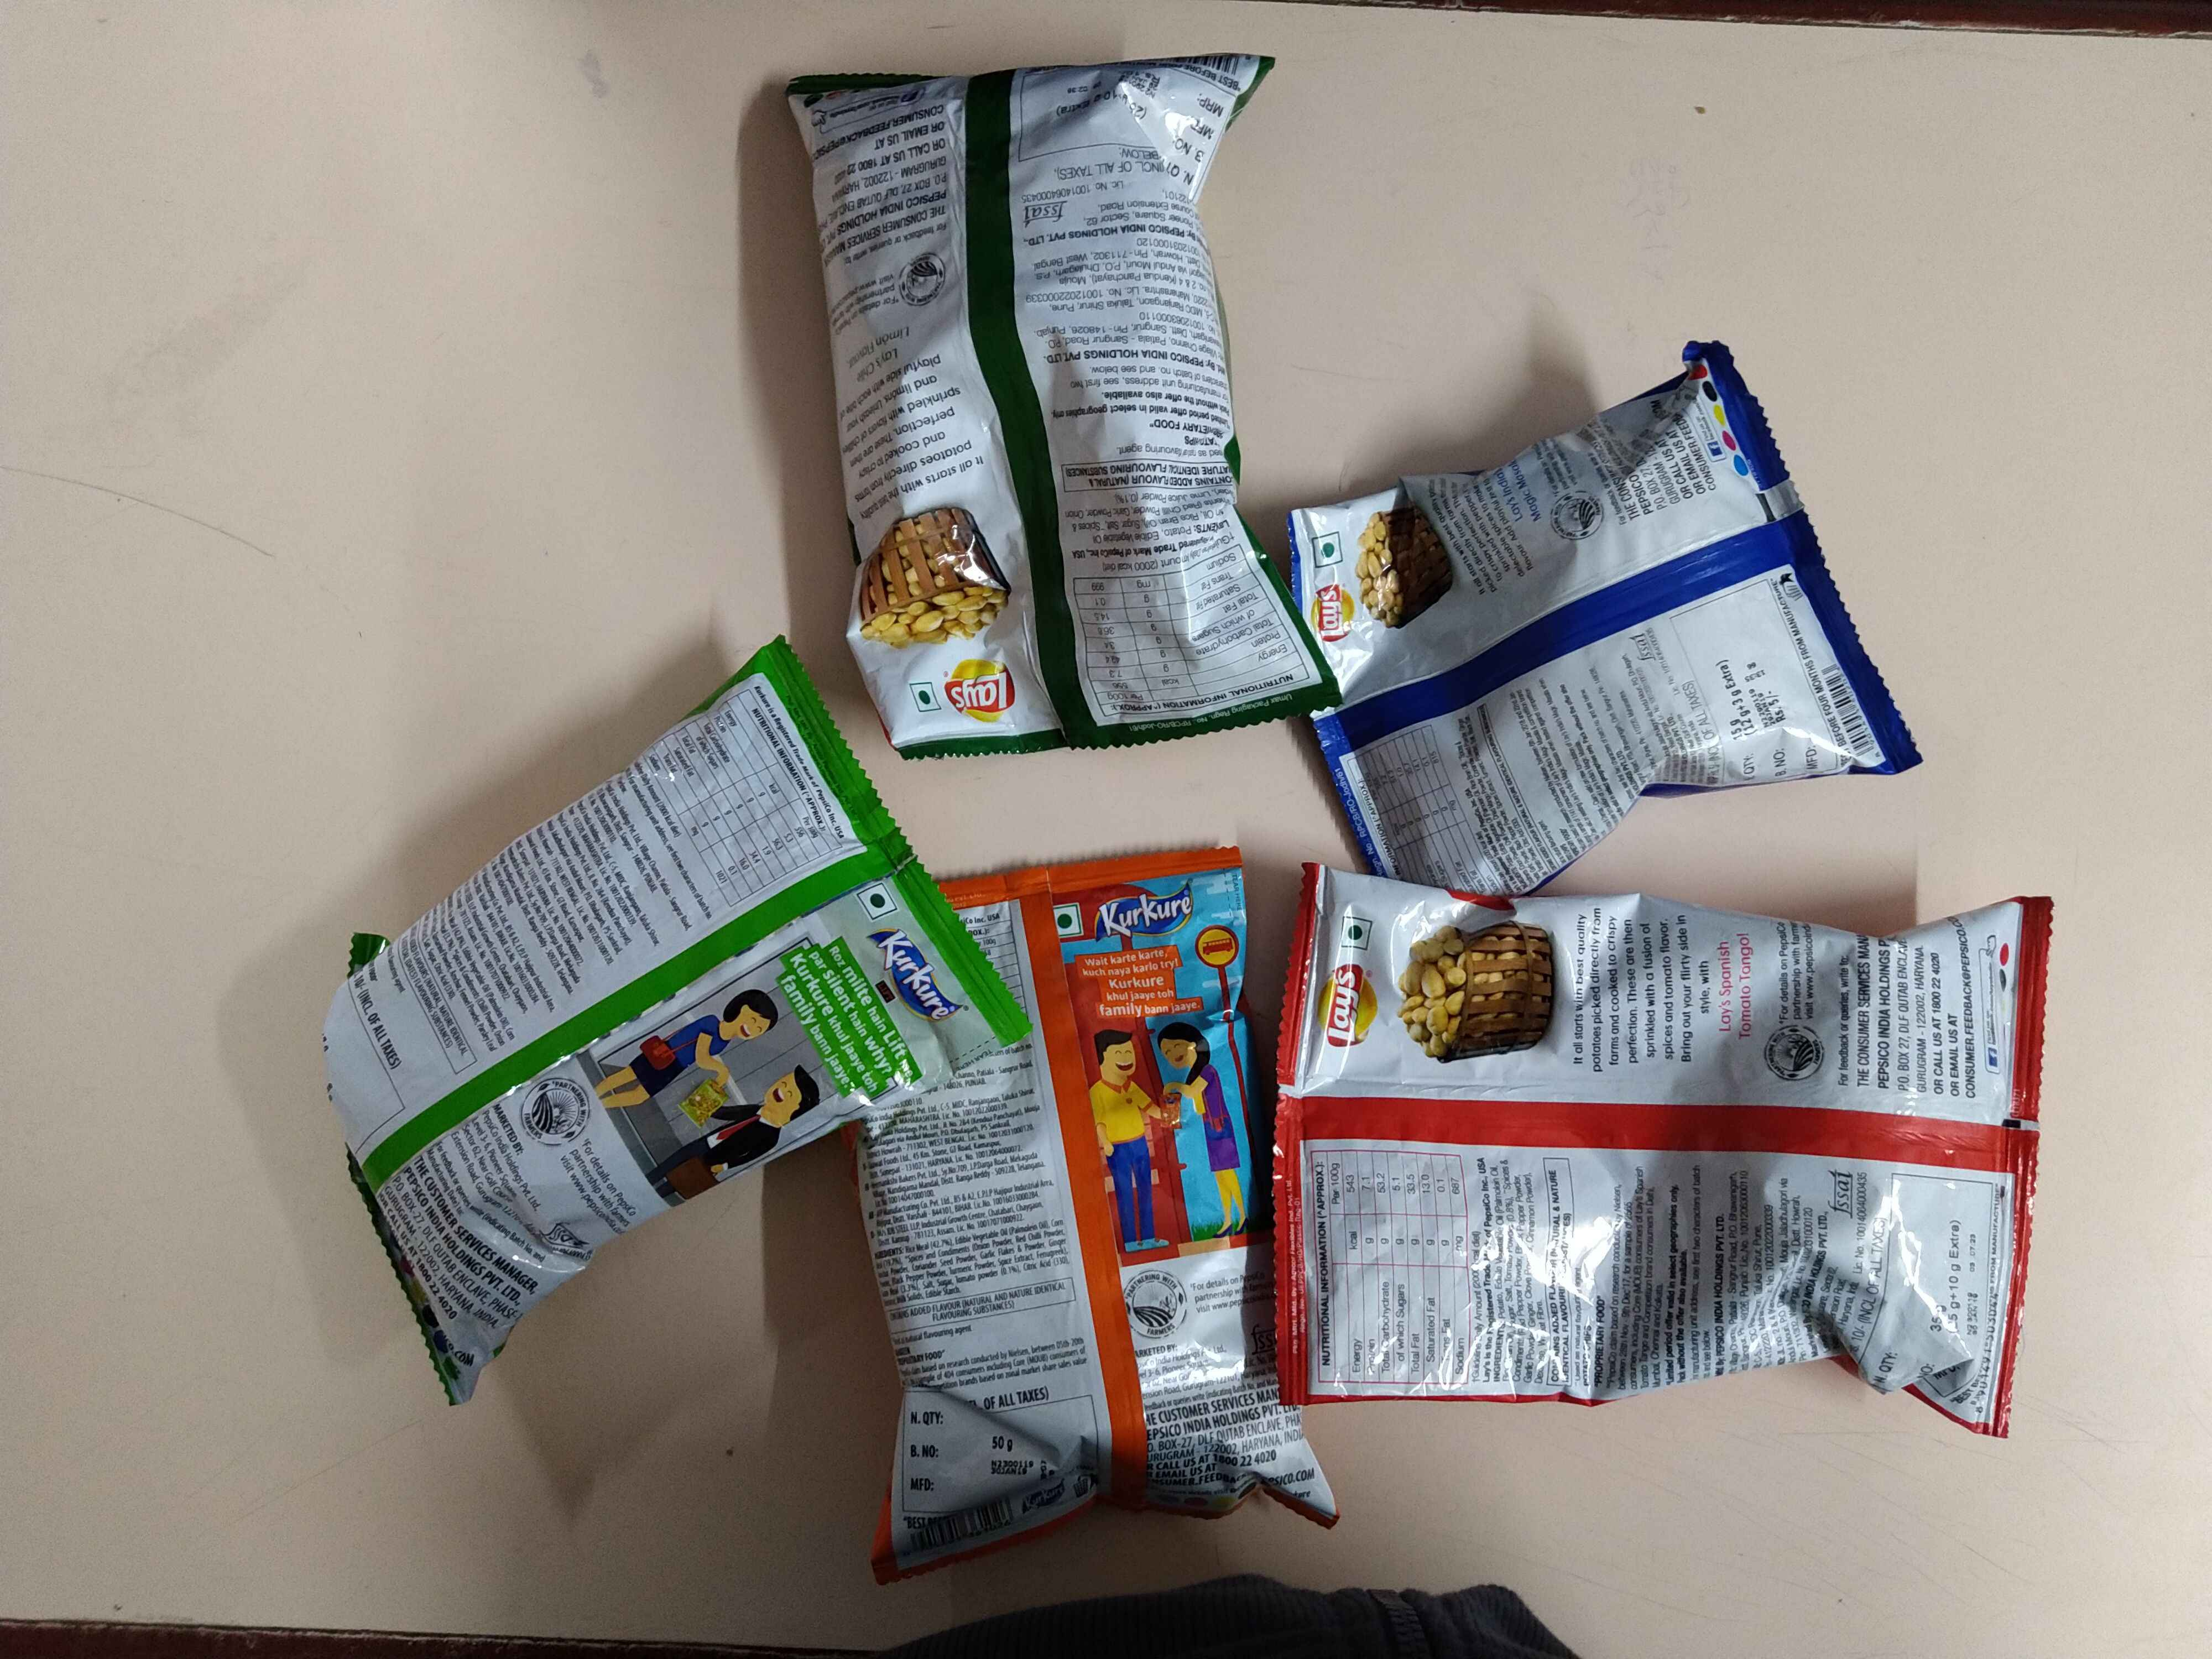Lays: (1287, 957, 1402, 1053), (930, 647, 1031, 737), (1301, 579, 1367, 664)
kurkure: (857, 913, 981, 1044), (1068, 866, 1216, 941)
